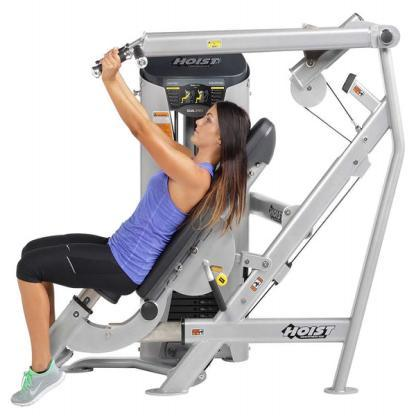shoulder press machine: (2, 0, 416, 416)
